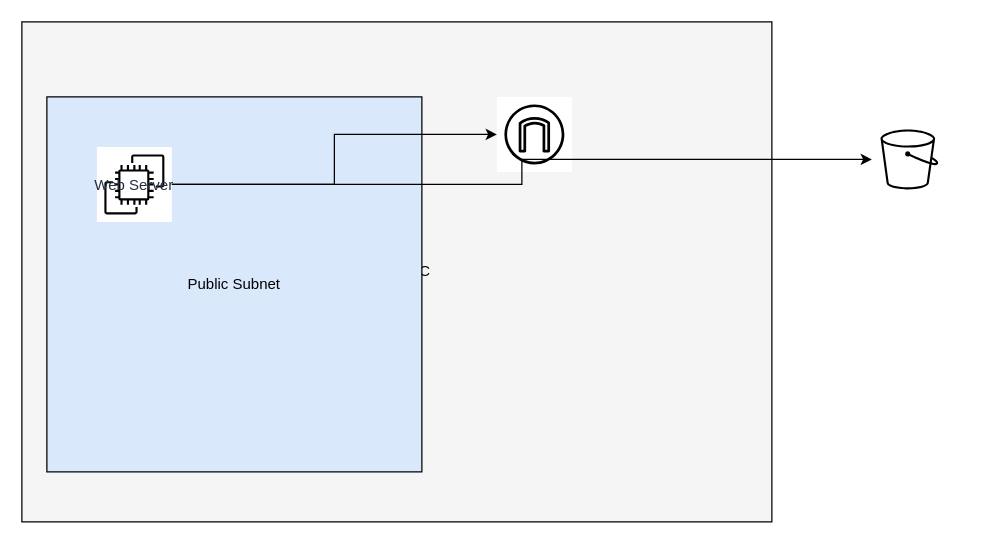
The diagram is 1000 pixels wide and 544 high, and some of its shapes have lost their labels. Here are the shapes that lost their labels. From the top down, the centre of each, then its label:
At [534,134]: "Internet Gateway".
At [909,159]: "Static Assets Bucket".
